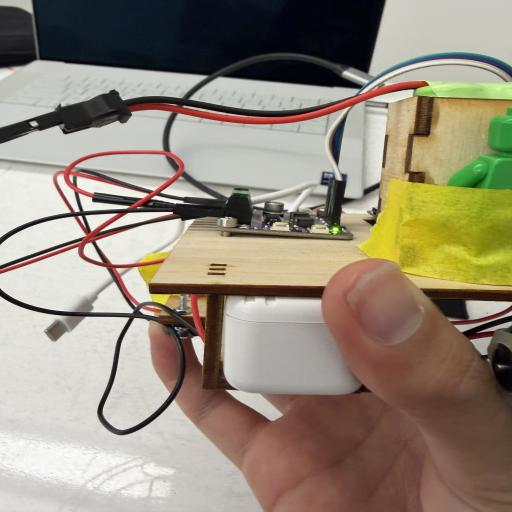Green-Lego: (448, 108, 512, 190)
